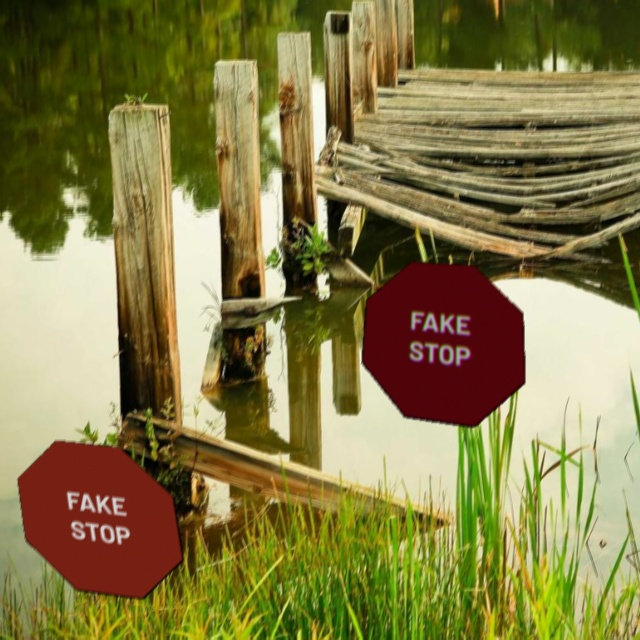FAKE_STOP: (360, 261, 525, 428), (16, 440, 183, 600)
